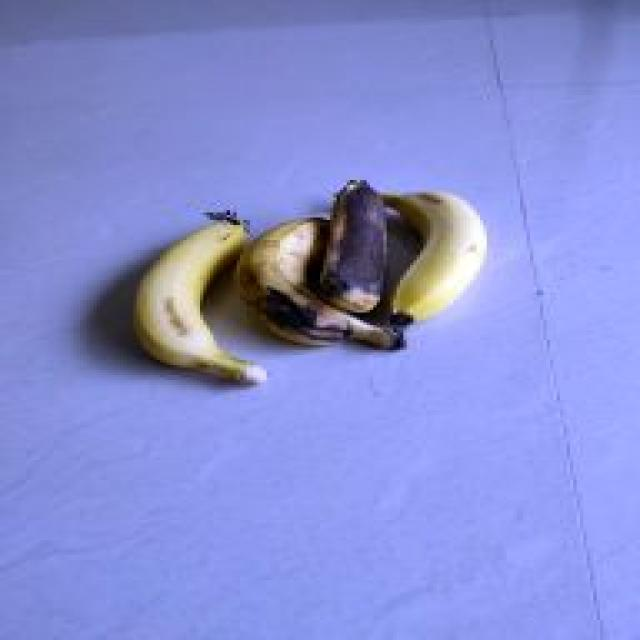Wet: (230, 212, 407, 352), (313, 175, 387, 313)
